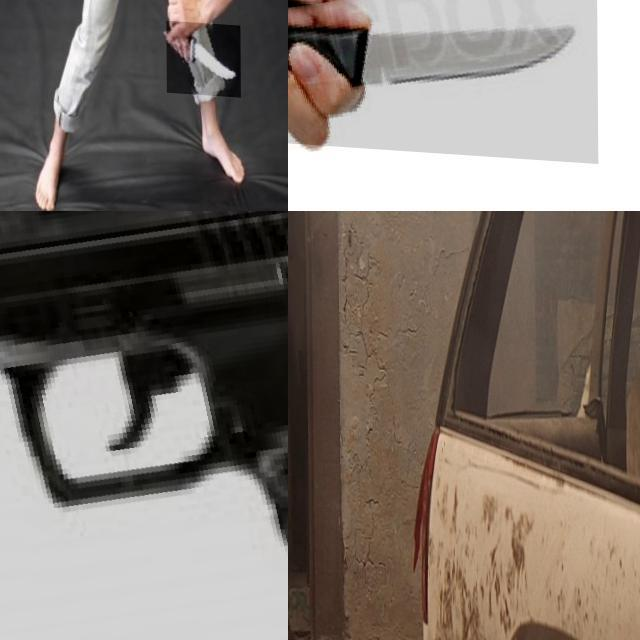-: (288, 0, 597, 155), (166, 17, 240, 92)
gun-knife-thesis - v11 Yolov5 augmented: (0, 211, 288, 640), (288, 211, 305, 255)
